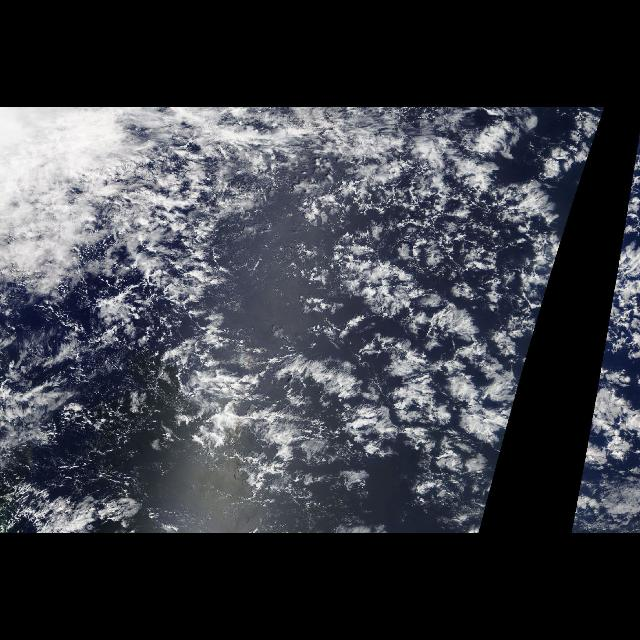Flower: (283, 116, 603, 534), (568, 119, 640, 533)
